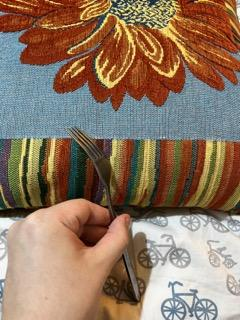fork: (66, 124, 146, 306)
